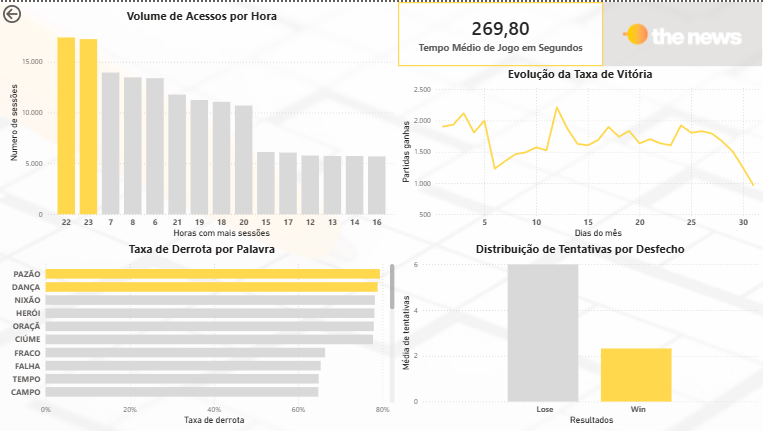

This screenshot's page, from the dashboard's own definition file:
{"tool":"powerbi","page":{"name":"painel_produto_engajamento","canvas":[1280,720],"ordinal":0},"visuals":[{"type":"clusteredColumnChart","title":"Volume de Acessos por Hora","fields":{"Category":["base_palavritas_unificada.session_hour"],"Y":["CountNonNull(base_palavritas_unificada.session_hour)"]},"box":[10.2,10.2,652.7,387.8],"z":0},{"type":"clusteredBarChart","title":"Taxa de Derrota por Palavra","fields":{"Category":["base_palavritas_unificada.word"],"Y":["base_palavritas_unificada.Média Taxa de Derrota"]},"box":[10.2,398,652.7,311.7],"z":1000},{"type":"columnChart","title":"Distribuição de Tentativas por Desfecho","fields":{"Category":["base_palavritas_unificada.result"],"Y":["Avg(base_palavritas_unificada.attempts)"]},"box":[662.9,398,607.3,311.7],"z":2000},{"type":"cardVisual","title":"Te","fields":{"Data":["Avg(base_palavritas_unificada.time_to_complete_sec)"]},"box":[662.9,0,342.4,106.8],"z":3000},{"type":"lineChart","title":"Evolução da Taxa de Vitória","fields":{"Y":["CountNonNull(base_palavritas_unificada.result)"],"Category":["base_palavritas_unificada.word_day_num"]},"box":[662.9,106.8,607.3,291.2],"z":4000},{"type":"actionButton","box":[0,0,100,40],"z":5000},{"type":"image","box":[1005.4,0,264.9,106.8],"z":5001}]}

Visuals, with their boxes in screenshot pixels (x1, y1, x2, y2), scaled from the page's 1280x720 canvas onto the 763x431 screenshot:
"Volume de Acessos por Hora" clusteredColumnChart: x1=6, y1=6, x2=395, y2=238
"Taxa de Derrota por Palavra" clusteredBarChart: x1=6, y1=238, x2=395, y2=425
"Distribuição de Tentativas por Desfecho" columnChart: x1=395, y1=238, x2=757, y2=425
"Te" cardVisual: x1=395, y1=0, x2=599, y2=64
"Evolução da Taxa de Vitória" lineChart: x1=395, y1=64, x2=757, y2=238
actionButton: x1=0, y1=0, x2=60, y2=24
image: x1=599, y1=0, x2=757, y2=64
